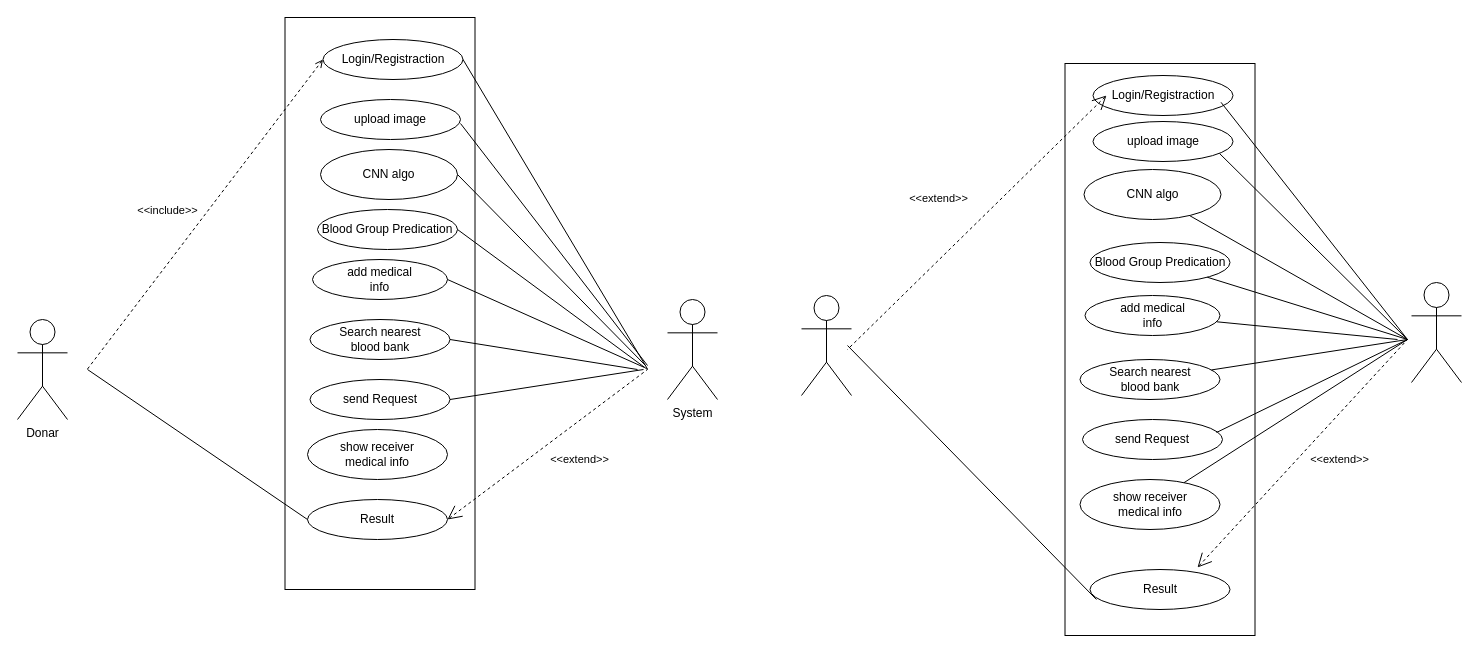
Image size: 1479x653. Some labels were removed from this diagram. The centre of each missing label's shape, as x and y in pixels:
"Admin" belongs at [1436,332].
"Receiver/hospital Blood Bank" belongs at [826,345].
